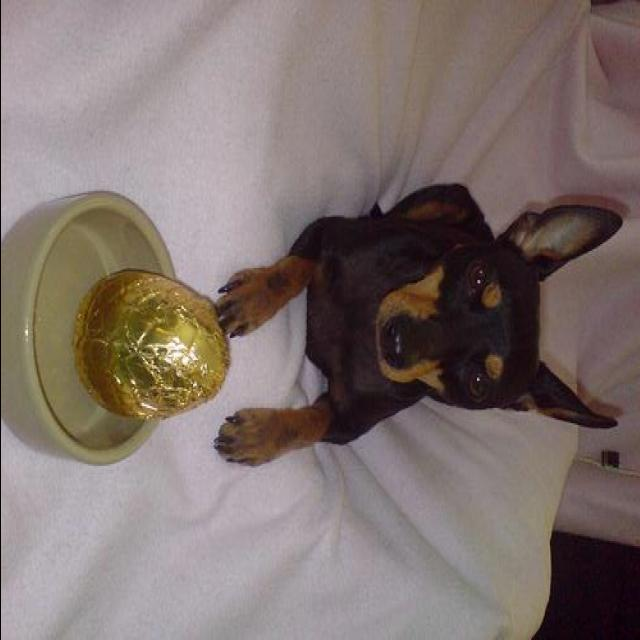toy_terrier: (216, 181, 626, 469)
